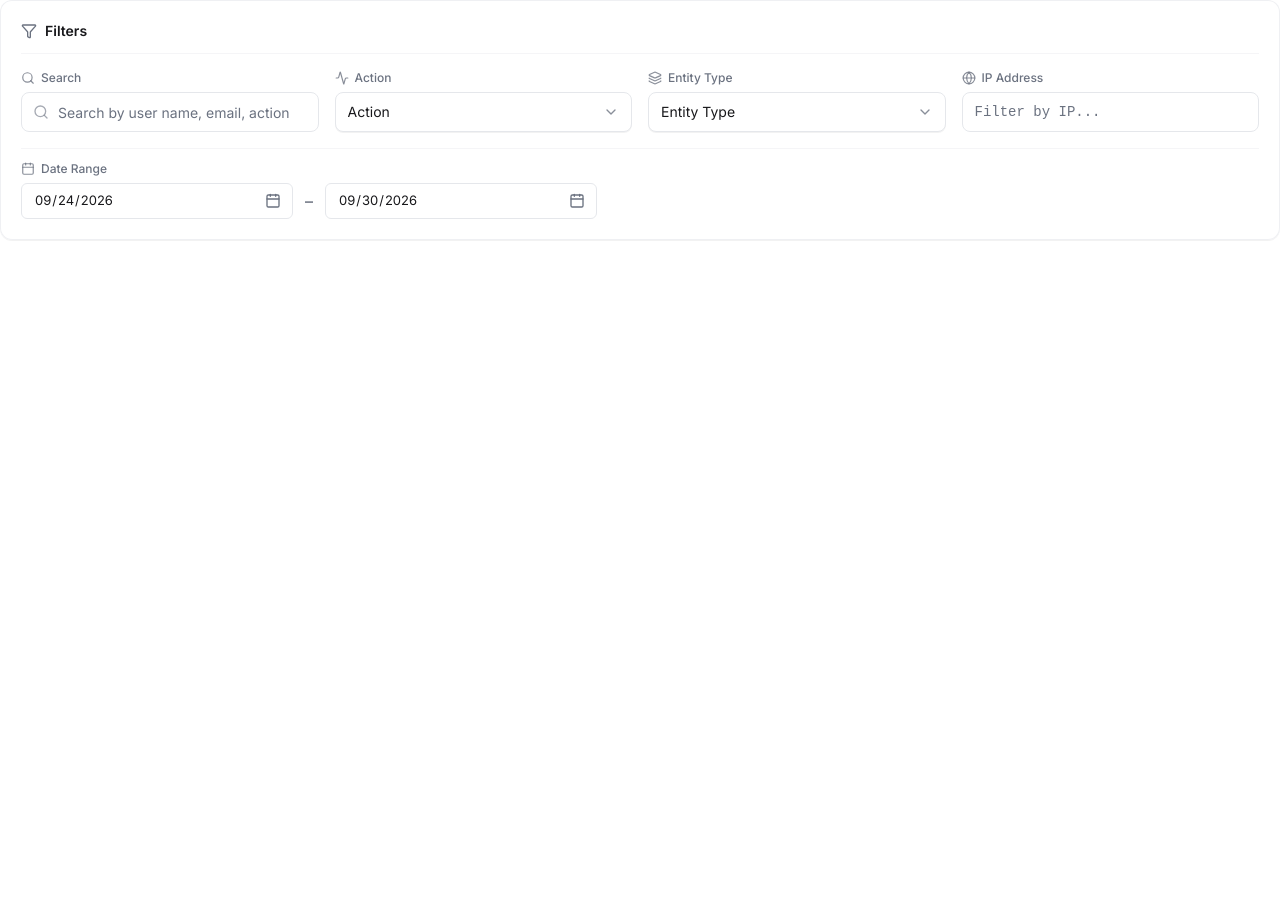
Test: AuditLogFilters › does not commit a date when only navigating calendar months
The width and height of the screenshot is (1280, 900).
Click the button named "From" at (273, 201), box [261, 189, 285, 213]
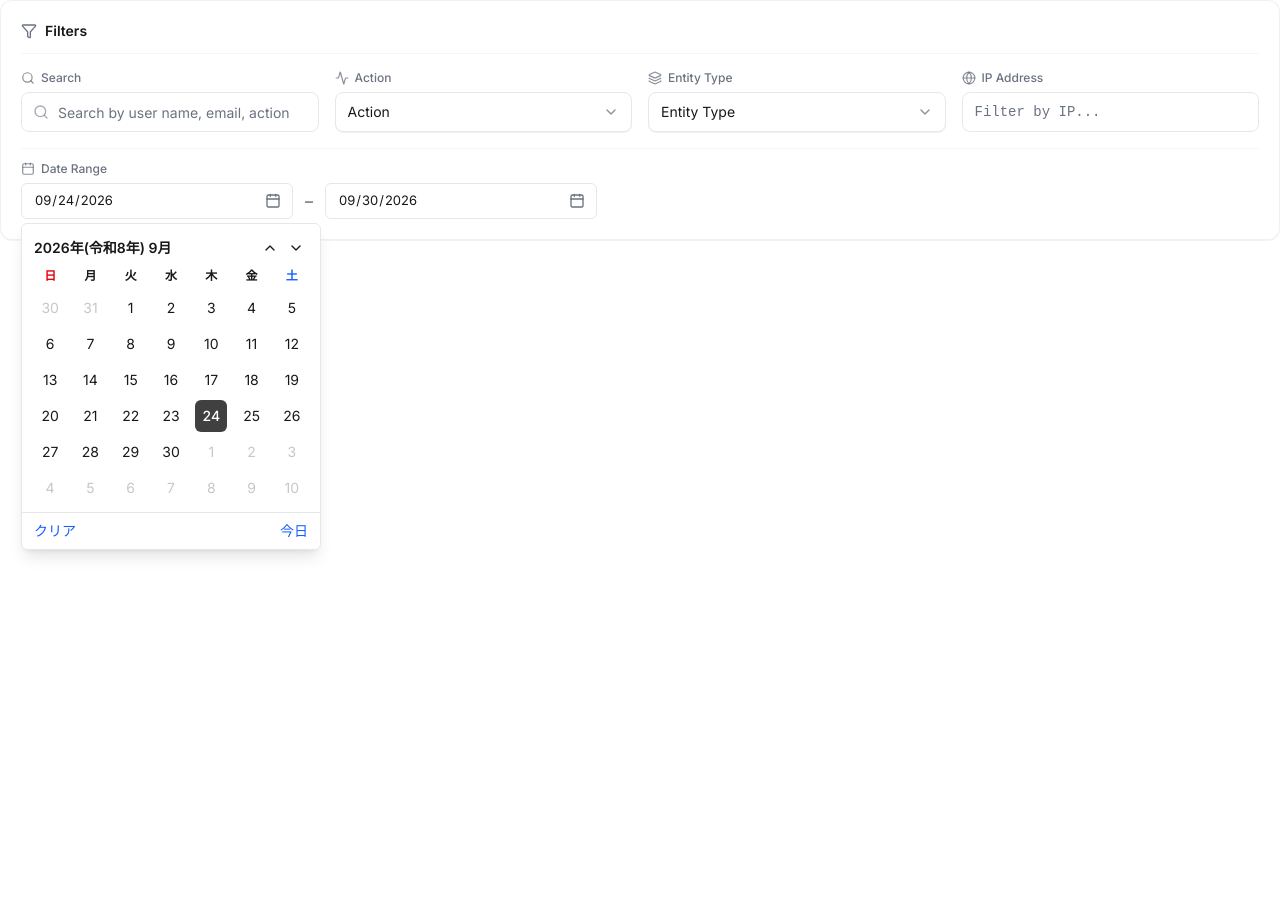
Click the button named "前の月" at (270, 248), box [258, 236, 282, 260]
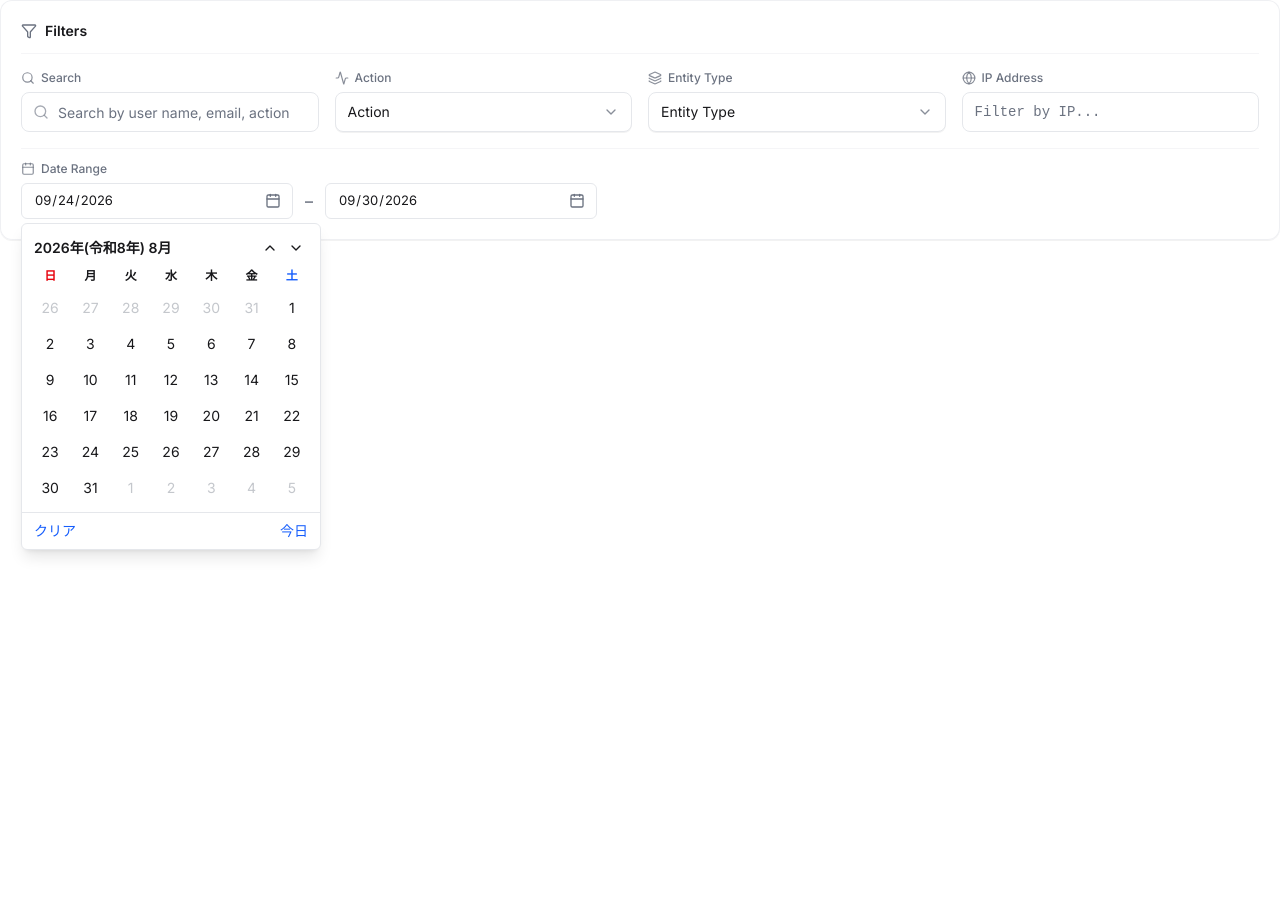
Expected: the date field named "From" holds "2026-09-24", [21, 183, 293, 219]
Now the text with test id "date-picker-month-label" reads "2026年(令和8年) 8月", box [34, 239, 172, 256]
Click the button named "2026年8月15日" at (292, 380), box [276, 364, 308, 396]
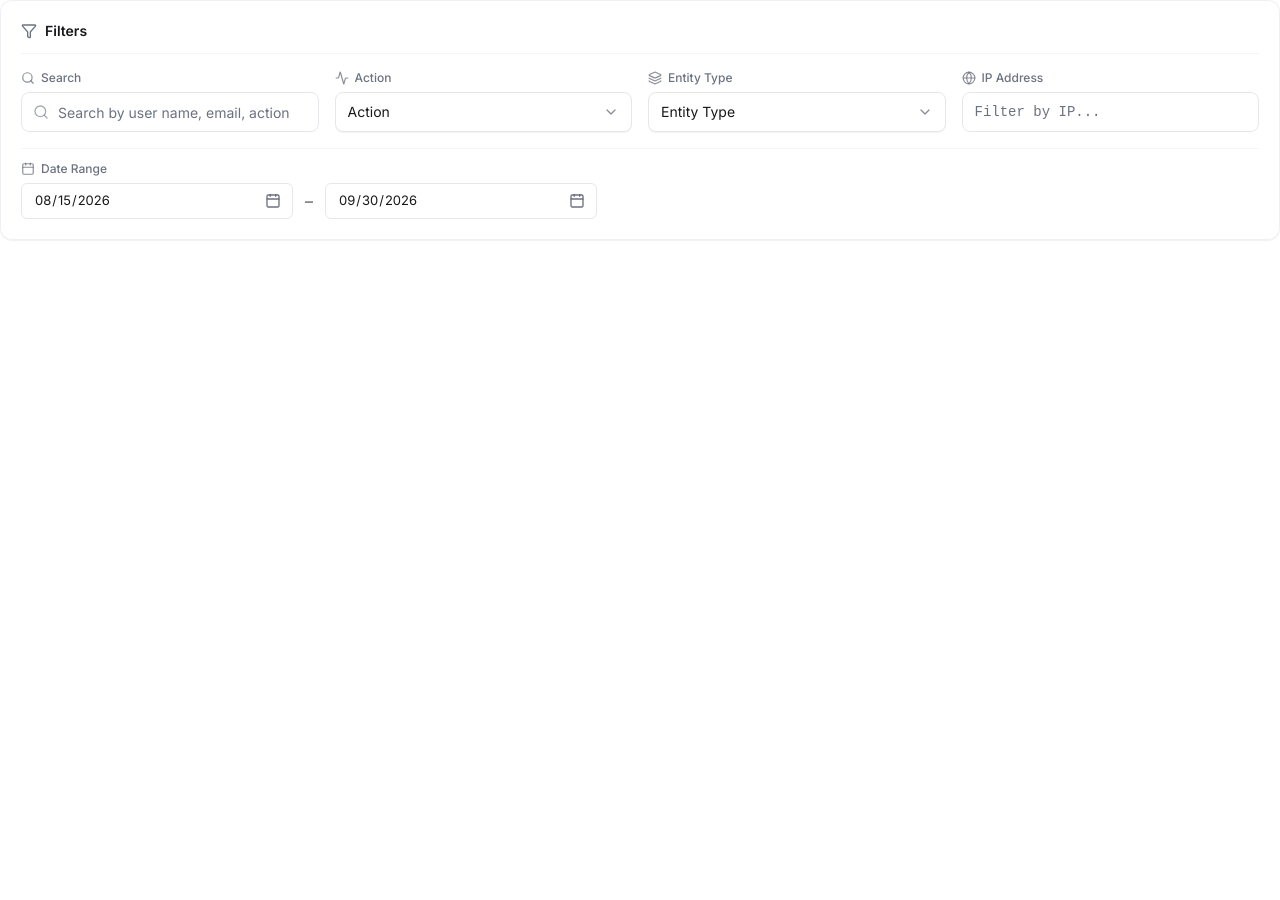
Now the date field named "From" holds "2026-08-15", box [21, 183, 293, 219]
Now the dialog is gone
